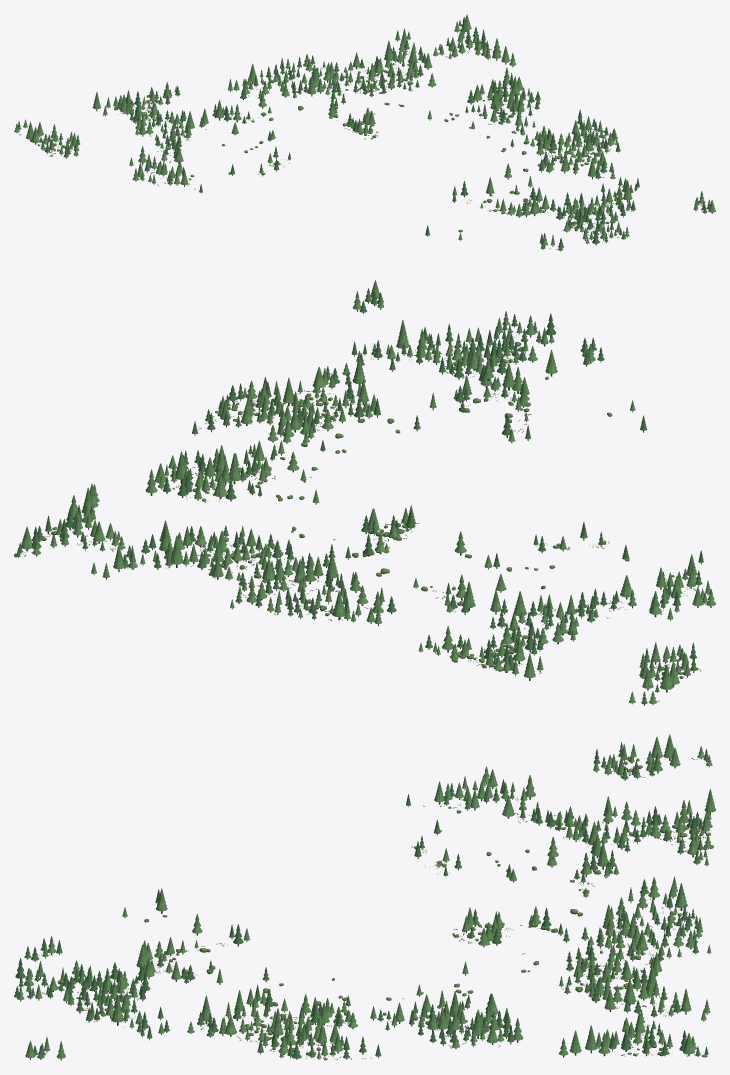
File: Foliage_P2.fbx
3 views of the same model, one above another, from view 1: azimuth 30°, elevation 25°; view 2: azimuth 150°, elevation 25°; view 3: azimuth 270°, elevation 25° (orthographic). The views are drawn at different scales.
Bounding box in the file's own units: 61438 × 5793 × 61489.
